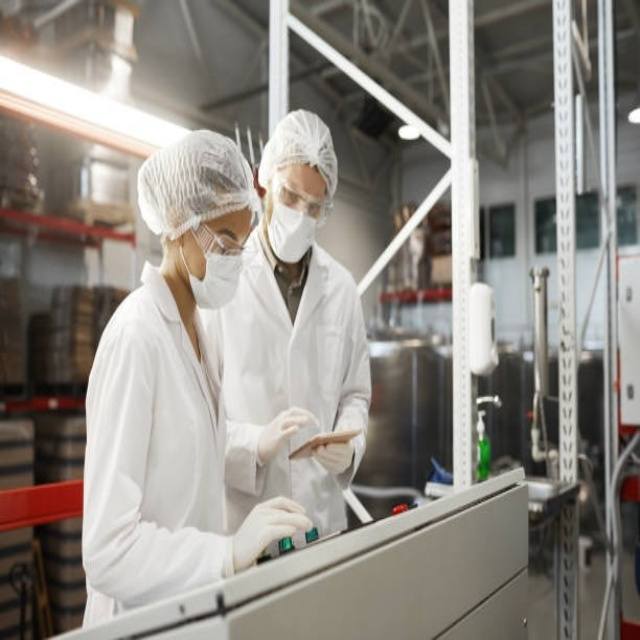Gafas: (193, 209, 256, 259), (276, 173, 332, 221)
Guantes: (230, 496, 314, 575), (256, 407, 319, 468), (313, 421, 358, 476)
Mascara: (181, 249, 246, 306), (266, 198, 320, 264)
